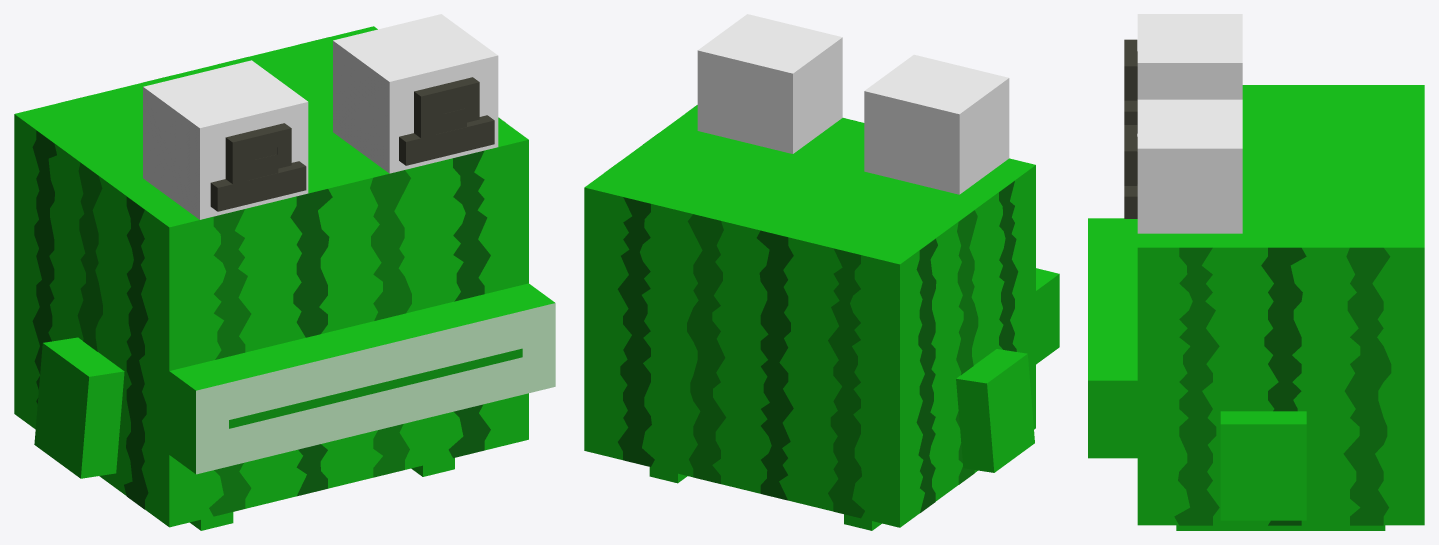
3 renders of one model, left to right at view 1: azimuth 30°, elevation 25°; view 2: azimuth 150°, elevation 25°; view 3: azimuth 270°, elevation 25°, orthographic. The views are drawn at different scales.
Parts seen in each view (by area): view 1: Ch_12, Ch_12_Eye, Ch_12_Hand_L, Ch_12_Eye_03_L, Ch_12_Eye_03_R; view 2: Ch_12, Ch_12_Eye, Ch_12_Hand_L; view 3: Ch_12, Ch_12_Eye, Ch_12_Hand_R, Ch_12_Leg_R, Ch_12_Eye_03_L, Ch_12_Eye_03_R.
Part boxes in pixels (<box>): Ch_12: <box>14,26,555,527</box>; Ch_12_Eye: <box>143,14,498,219</box>; Ch_12_Hand_L: <box>34,337,124,478</box>; Ch_12_Eye_03_L: <box>225,123,291,183</box>; Ch_12_Eye_03_R: <box>414,77,479,138</box>; Ch_12: <box>584,105,1059,527</box>; Ch_12_Eye: <box>697,14,1009,194</box>; Ch_12_Hand_L: <box>956,349,1034,472</box>; Ch_12: <box>1088,85,1424,525</box>; Ch_12_Eye: <box>1124,14,1242,233</box>; Ch_12_Hand_R: <box>1220,411,1306,520</box>; Ch_12_Leg_R: <box>1176,525,1385,530</box>; Ch_12_Eye_03_L: <box>1124,39,1137,100</box>; Ch_12_Eye_03_R: <box>1124,125,1137,185</box>.
Size of the model in its own units: 10.09 by 9.14 by 7.12.
